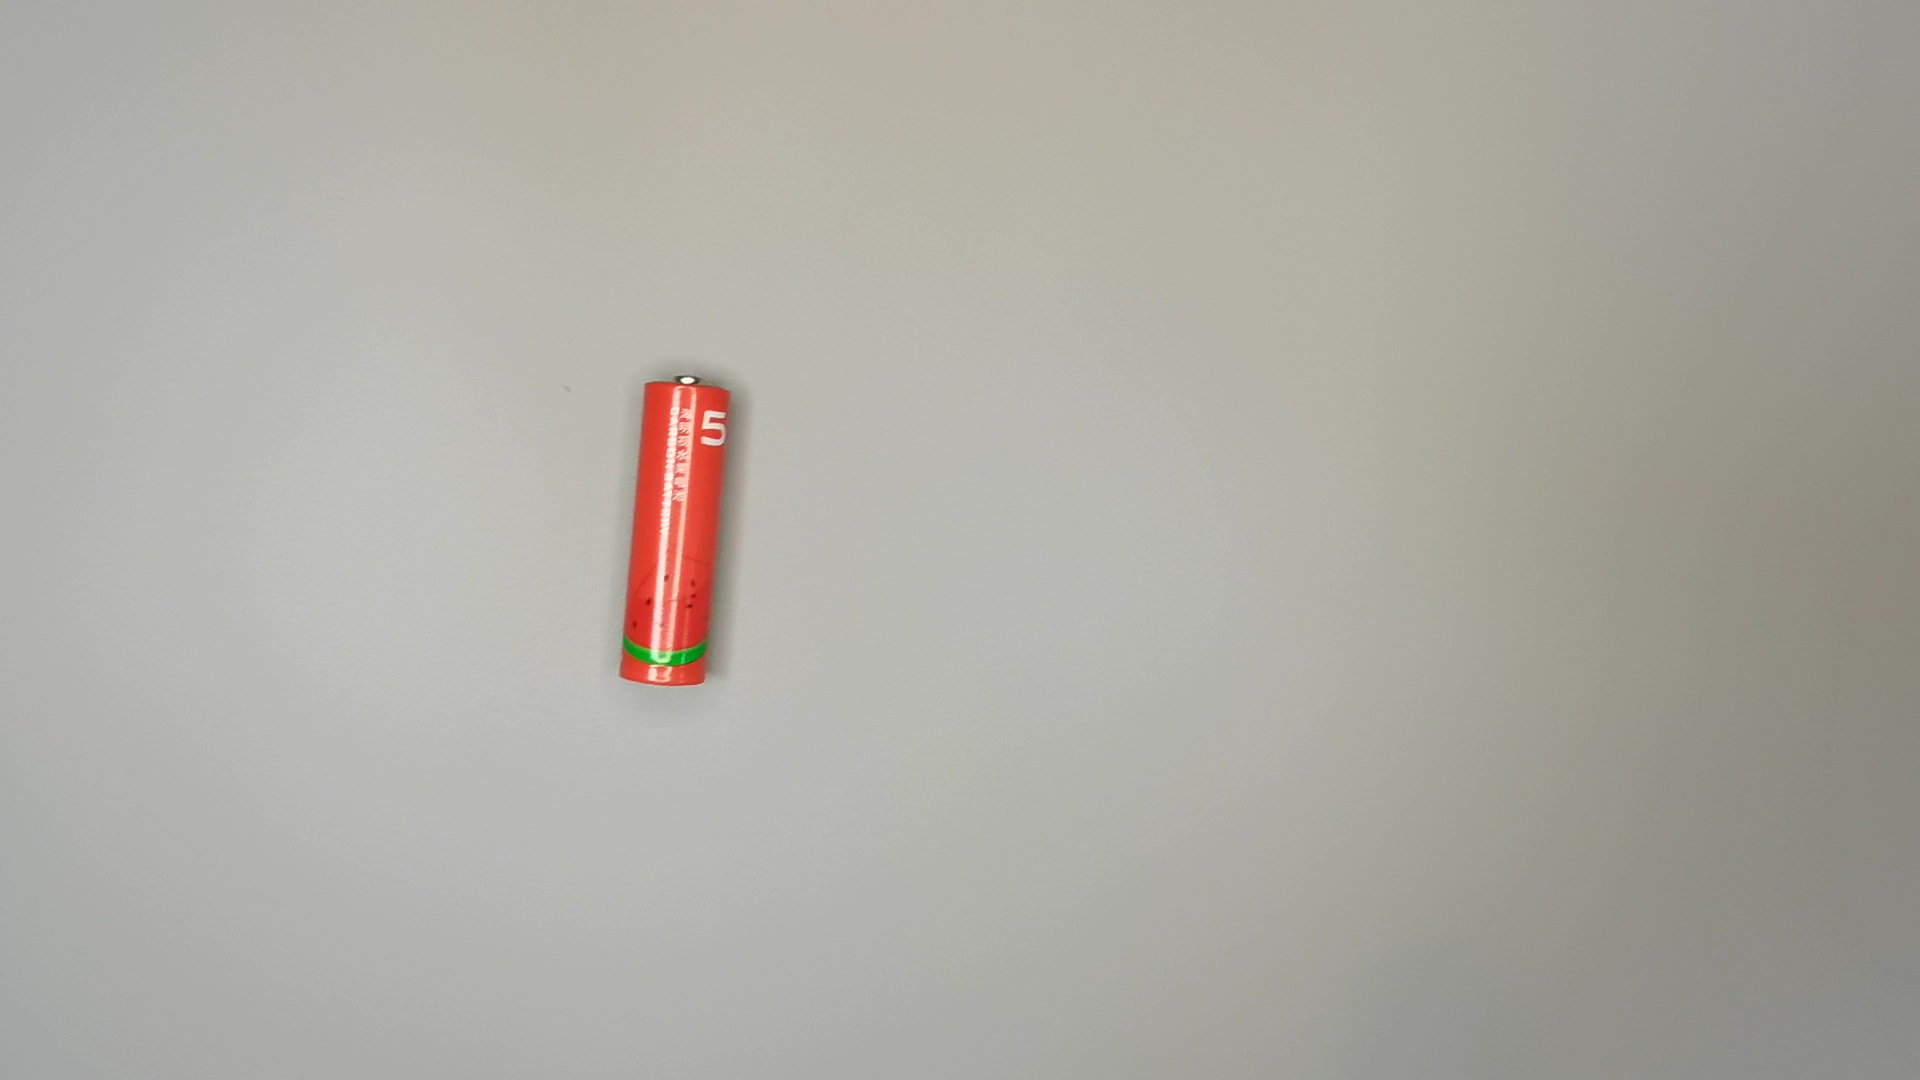battery: (611, 369, 738, 691)
